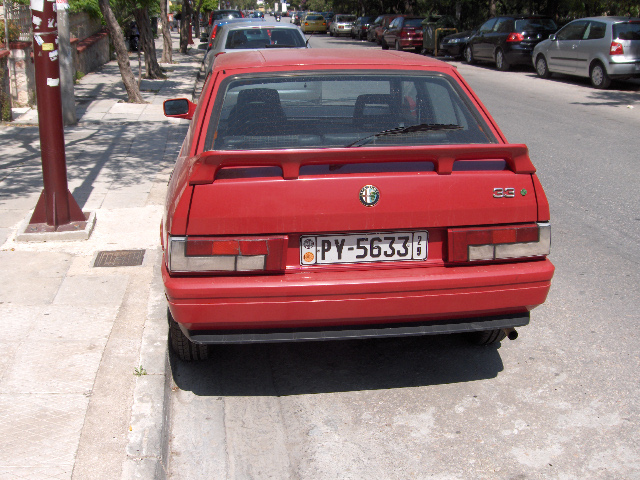licenseplate: (299, 229, 429, 266)
